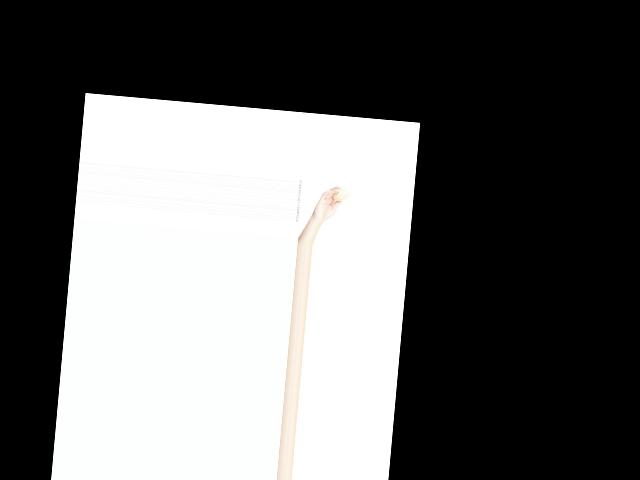egg: (331, 188, 349, 202)
